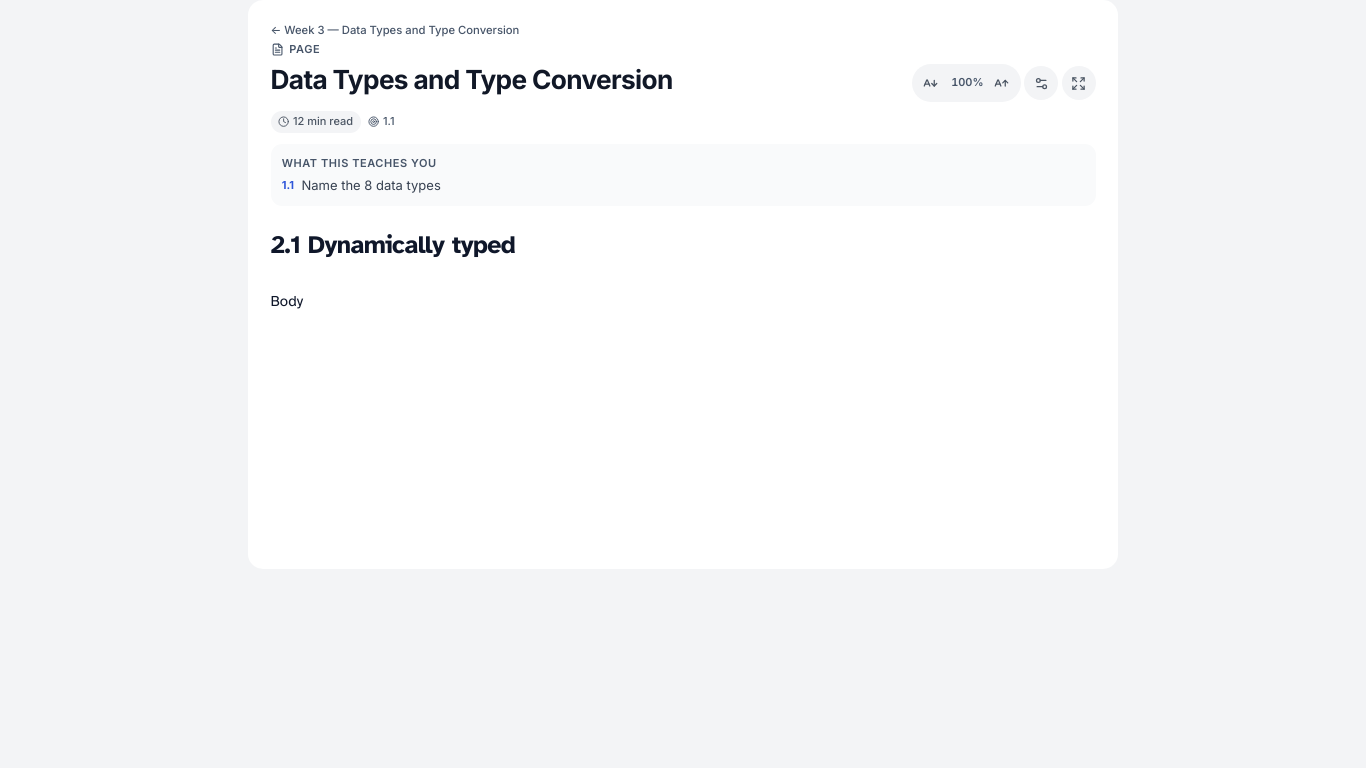
Test: ItemView — the lesson reader › offers a reading background, and applies it to the step
Click the button named "Reading settings".
click(1041, 83)  # box [1024,66,1058,100]
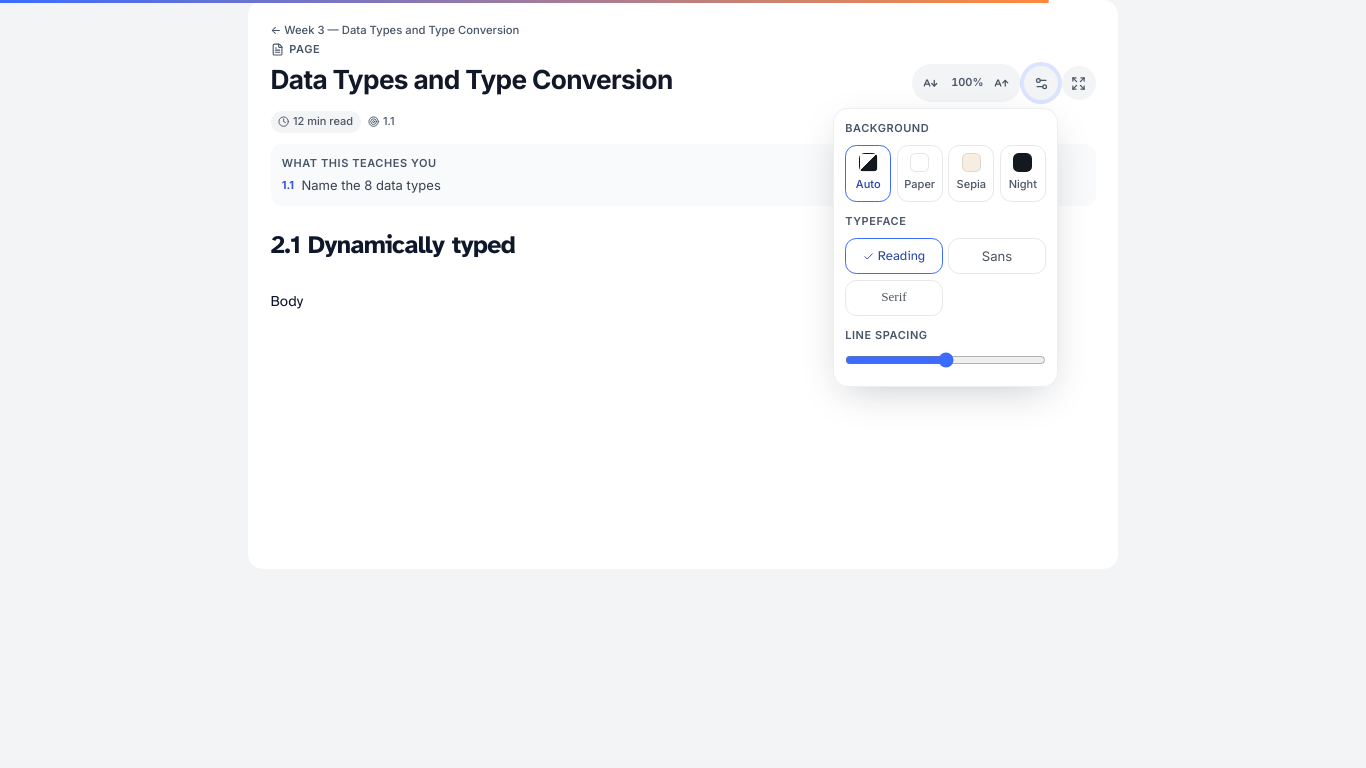
Click the button "Sepia".
click(971, 173)  # box [948,145,994,202]
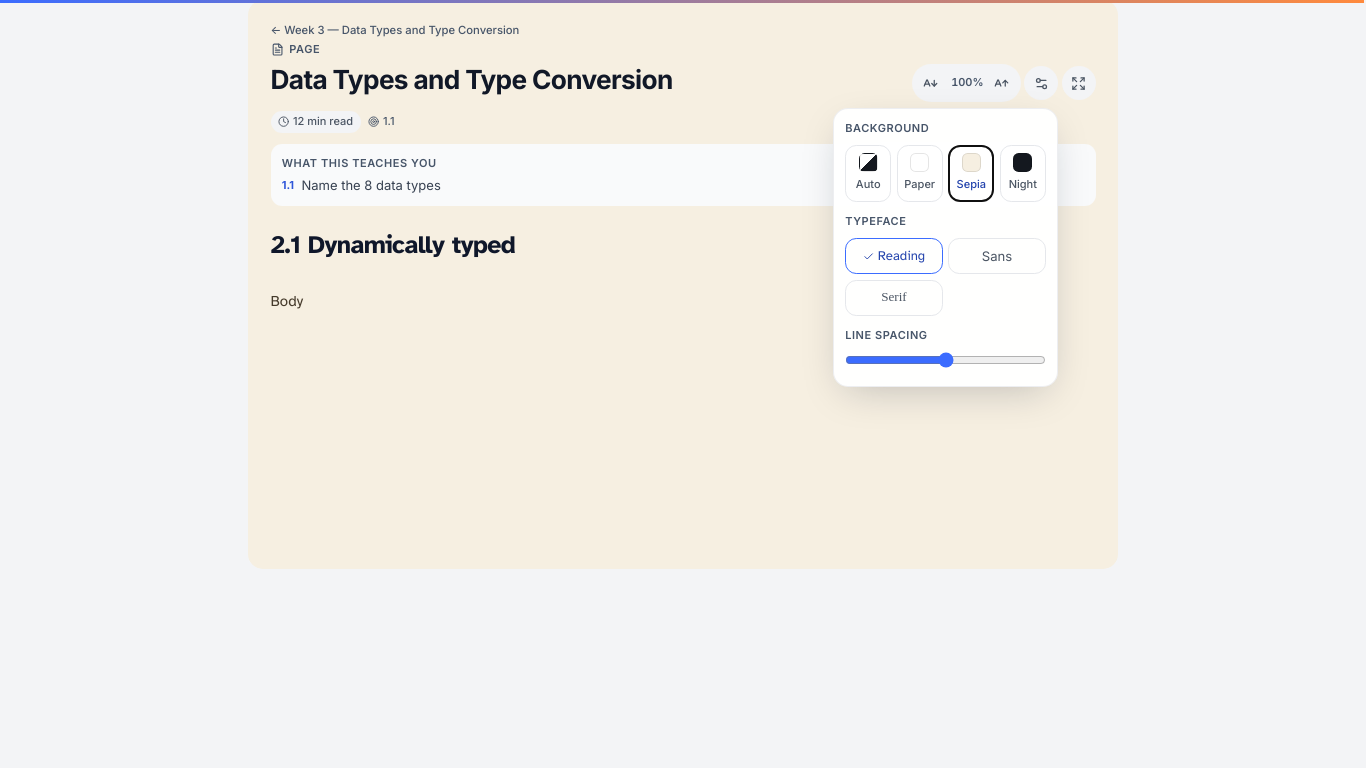
Expected: the element that starts with "Week 3 — Data Types and Type Conversion" is shown, [248,0,1118,569]
